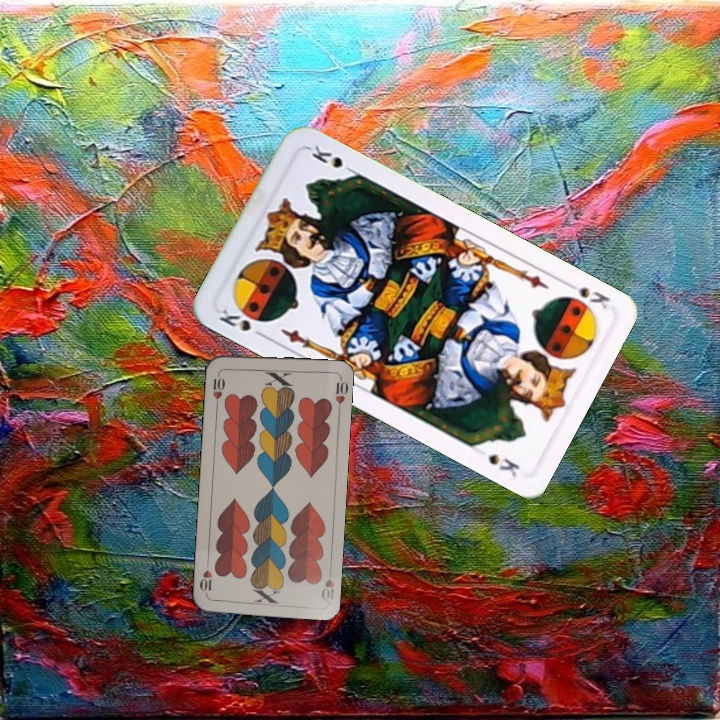H10: (317, 563, 337, 603), (209, 368, 227, 409)
SK: (214, 305, 269, 341), (559, 279, 613, 312)
